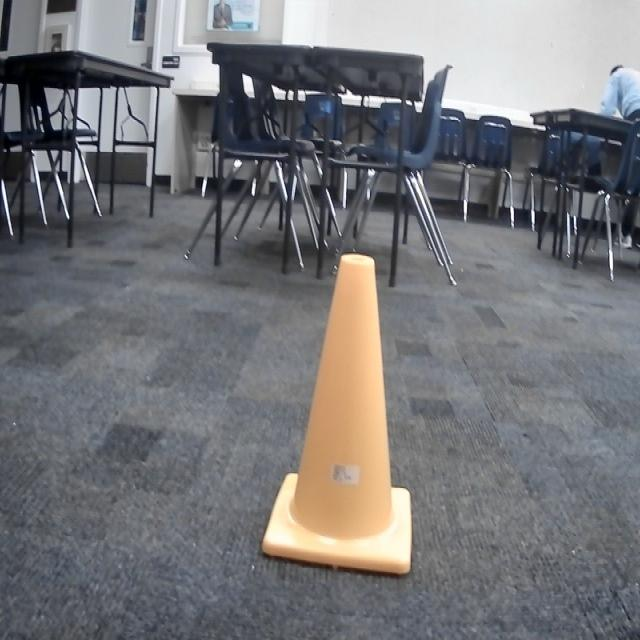cone: (262, 252, 414, 575)
